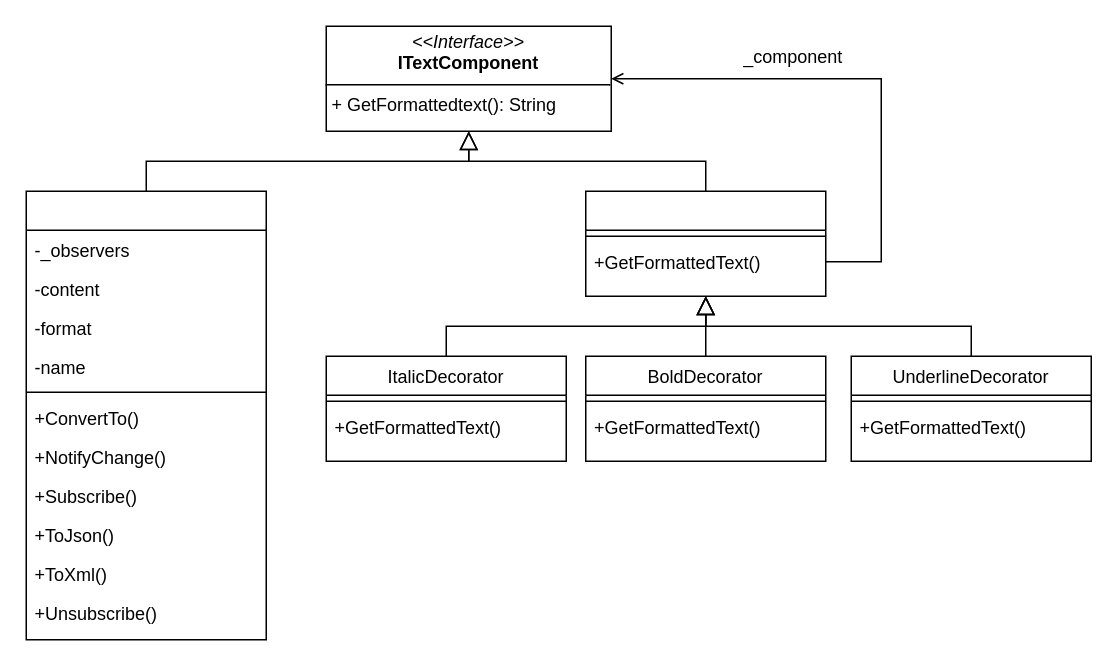
The diagram is 1118 pixels wide and 666 high, and some of its shapes have lost their labels. The shapes that lost their labels are listed below. From the top down, each one's box as (x1, y1, x2, y2) in pixels, then its label:
(584, 190, 826, 296): TextDecorator
(25, 190, 266, 640): Document
